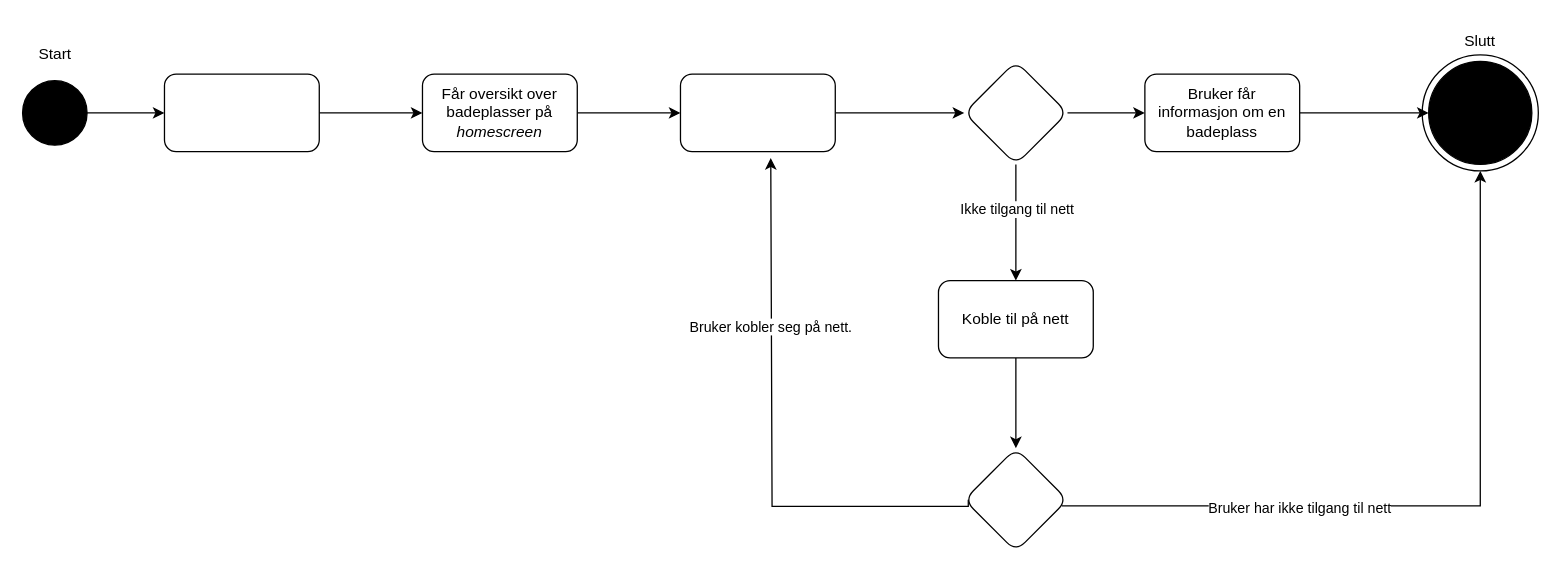
This 1561x574 diagram has some shape labels left out. The shapes that lost their labels are listed below. From the top down, each one's box as (x1, y1, x2, y2) in pixels, then its label:
(163, 73, 319, 152): Start appen
(679, 73, 835, 152): Velger en badeplass og trykker på den
